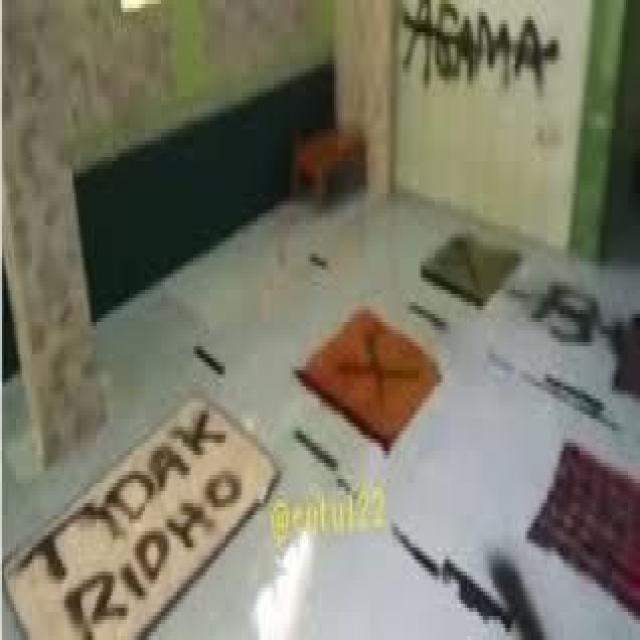nonspitting: (18, 406, 241, 640), (400, 0, 558, 89), (342, 330, 418, 408), (534, 274, 600, 346), (436, 233, 478, 290)
